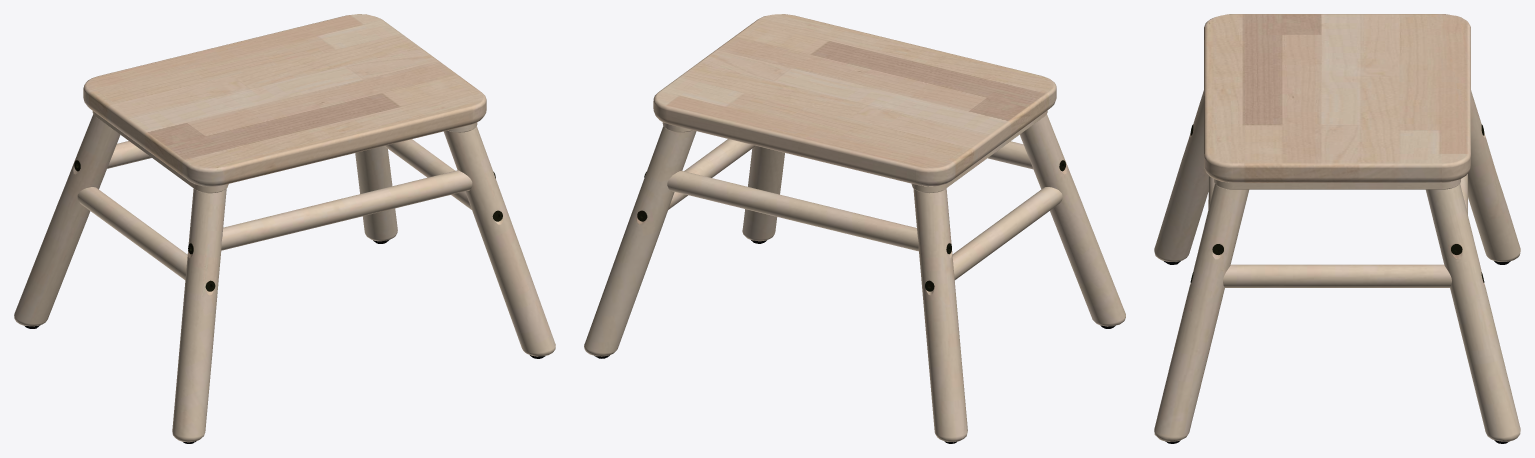
The model's file is vilto_stoek_60344453.glb.
The picture shows the model from 3 angles, left to right: view 1: azimuth 30°, elevation 25°; view 2: azimuth 150°, elevation 25°; view 3: azimuth 270°, elevation 25°; orthographic projection. The views are drawn at different scales.
Parts seen in each view (by area): view 1: vilto_stoek_60344453; view 2: vilto_stoek_60344453; view 3: vilto_stoek_60344453.
Boxes of the visible parts, x1=… form: vilto_stoek_60344453: x1=14, y1=14, x2=555, y2=443; vilto_stoek_60344453: x1=584, y1=14, x2=1125, y2=443; vilto_stoek_60344453: x1=1154, y1=14, x2=1520, y2=443.
Bounding box in the file's own units: 0.3965 × 0.25 × 0.3159.
1 material, 1 textured.
